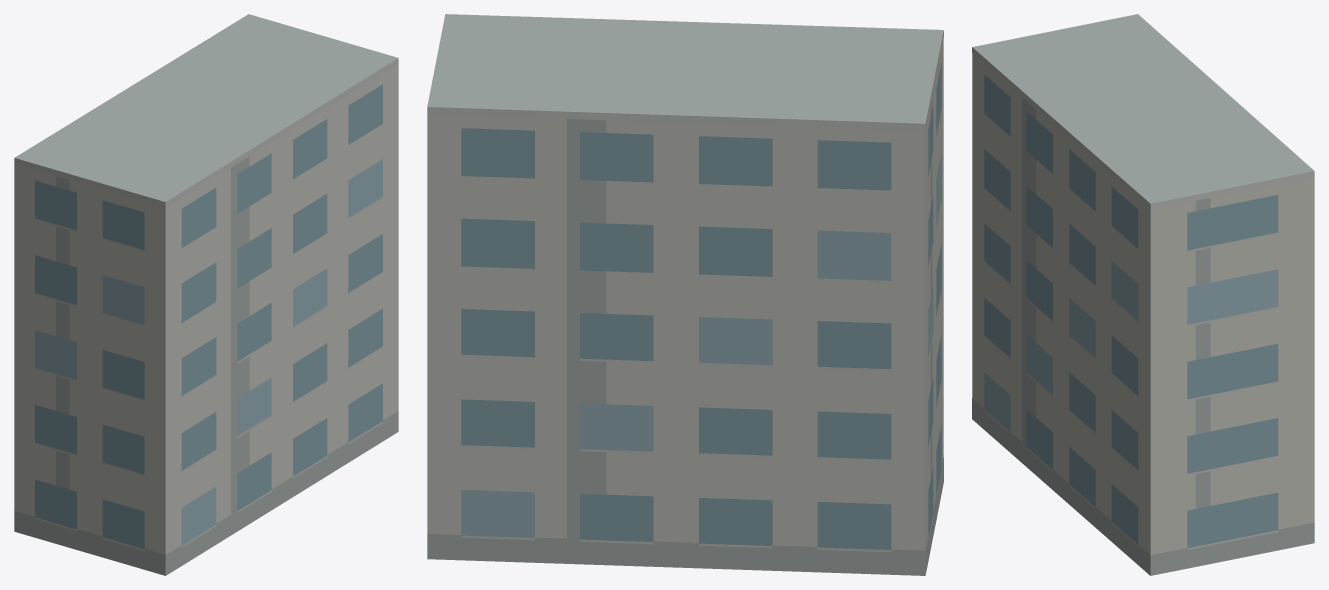
The model's file is survey-upis-32701983.glb.
3 views of the same model, side by side, from view 1: azimuth 30°, elevation 25°; view 2: azimuth 150°, elevation 25°; view 3: azimuth 270°, elevation 25° (orthographic). The views are drawn at different scales.
Visible parts, largest first — view 1: survey-upis-32701983.tmp; view 2: survey-upis-32701983.tmp; view 3: survey-upis-32701983.tmp.
Boxes of the visible parts, box(x1,y1,x2,y2) form: survey-upis-32701983.tmp: box(14, 14, 398, 575); survey-upis-32701983.tmp: box(427, 14, 943, 575); survey-upis-32701983.tmp: box(972, 14, 1314, 575).
Bounding box in the file's own units: 16.52 × 15.1 × 12.6.
